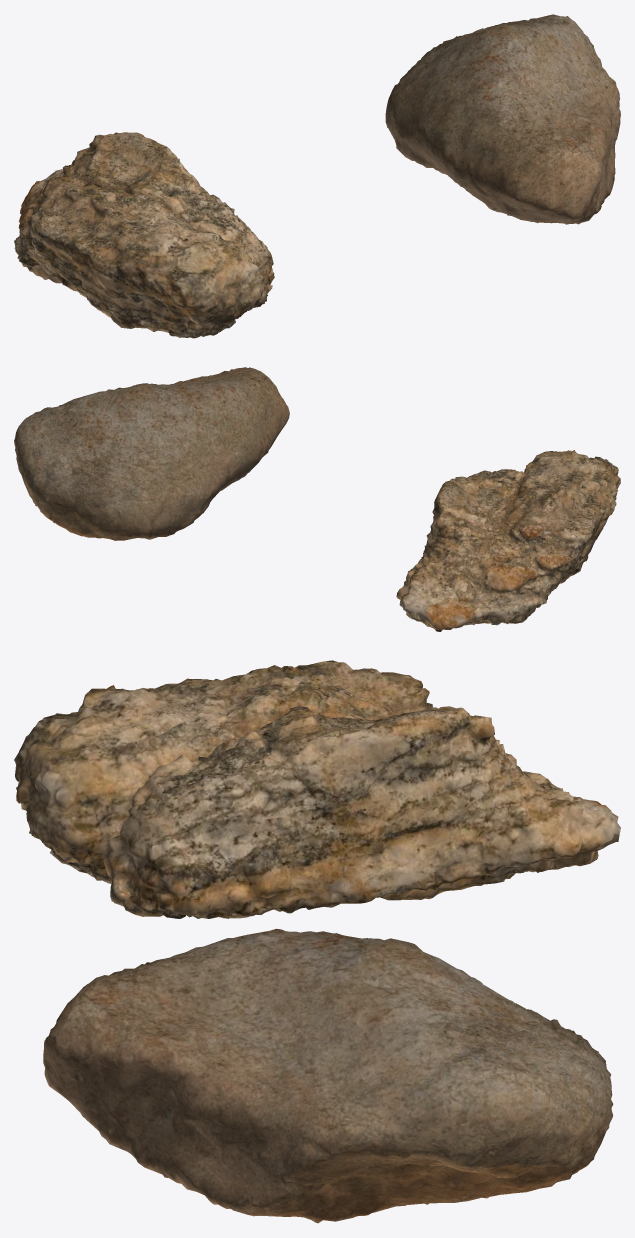
Rendered from namaqualand_boulders_01.glb.
3 renders of one model, top to bottom at view 1: azimuth 30°, elevation 25°; view 2: azimuth 150°, elevation 25°; view 3: azimuth 270°, elevation 25°, orthographic. The views are drawn at different scales.
Parts seen in each view (by area): view 1: namaqualand_rocks_01_a, namaqualand_rocks_01_b; view 2: namaqualand_rocks_01_a, namaqualand_rocks_01_b; view 3: namaqualand_rocks_01_a, namaqualand_rocks_01_b.
Part boxes in pixels (bbox=[...]): namaqualand_rocks_01_a: bbox=[385, 14, 620, 224]; namaqualand_rocks_01_b: bbox=[14, 132, 274, 338]; namaqualand_rocks_01_a: bbox=[14, 367, 289, 540]; namaqualand_rocks_01_b: bbox=[396, 450, 620, 631]; namaqualand_rocks_01_a: bbox=[43, 928, 613, 1223]; namaqualand_rocks_01_b: bbox=[14, 660, 620, 918].
Size of the model in its own units: 1.06 by 0.2516 by 0.5866.
Materials: 1 (1 with a texture image).
